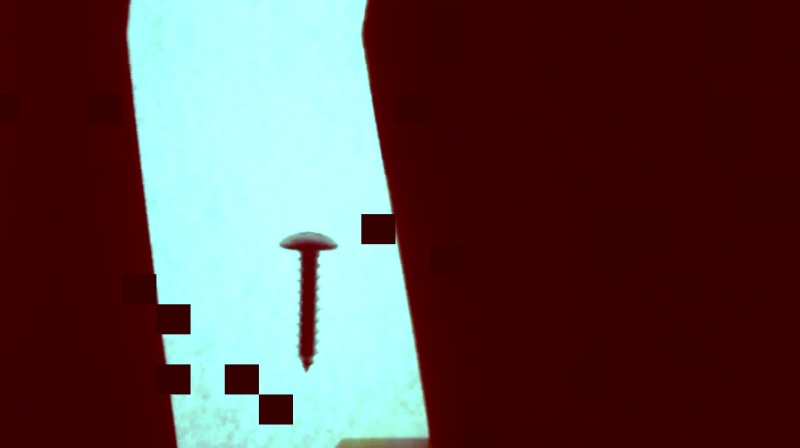S003: (275, 226, 344, 373)
